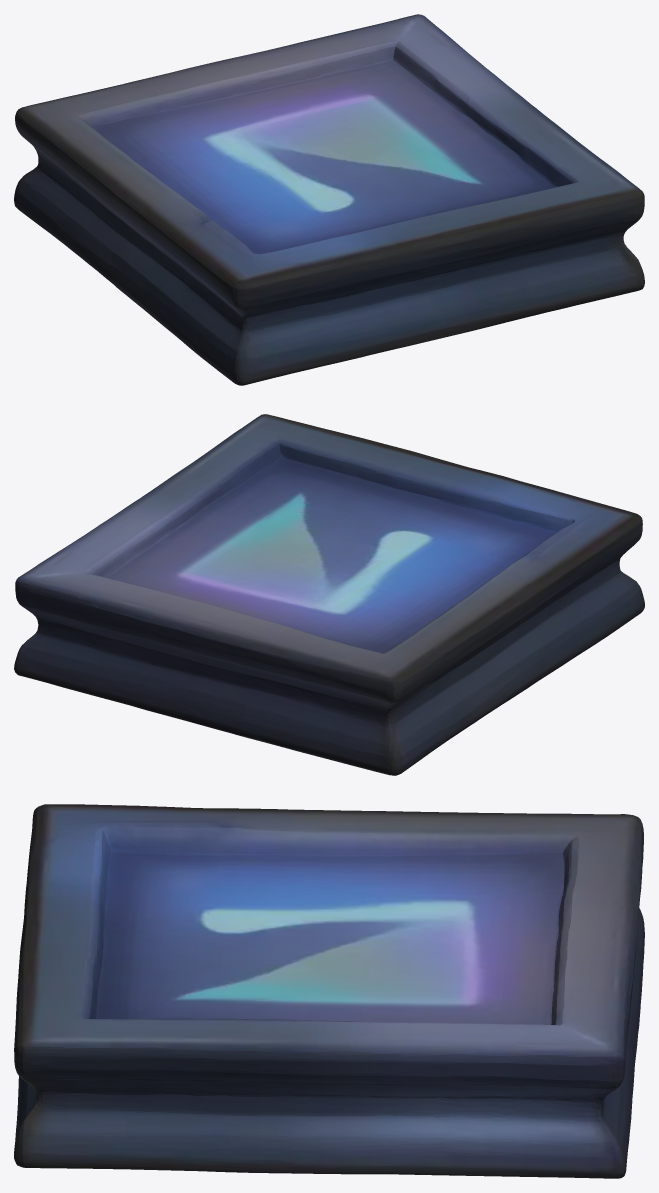
The model's file is glass_floor.glb.
3 views of the same model, one above another, from view 1: azimuth 30°, elevation 25°; view 2: azimuth 150°, elevation 25°; view 3: azimuth 270°, elevation 25° (orthographic). The views are drawn at different scales.
Parts seen in each view (by area): view 1: world; view 2: world; view 3: world.
Boxes of the visible parts, x1,y1,x2,y2 form: world: (14, 14, 644, 385); world: (14, 414, 644, 775); world: (14, 804, 644, 1178).
Bounding box in the file's own units: 0.9678 × 0.2307 × 0.9996.
1 material, 1 textured.
